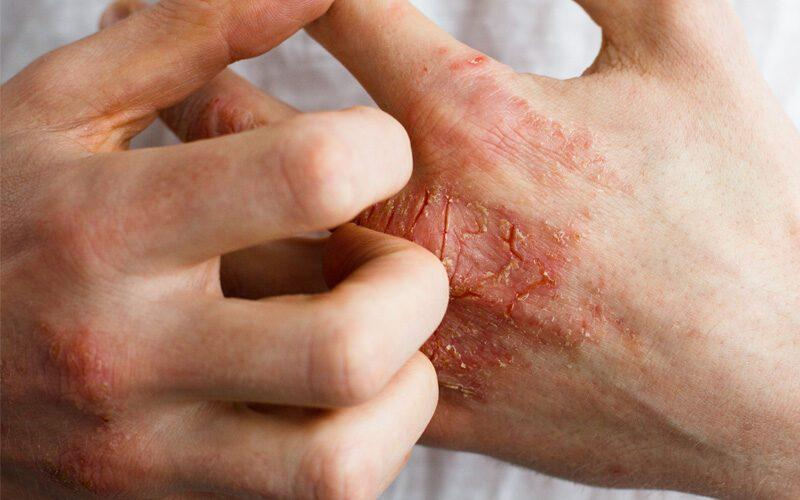Dry-Skin: (388, 17, 647, 225), (430, 226, 640, 353), (436, 362, 506, 412)
